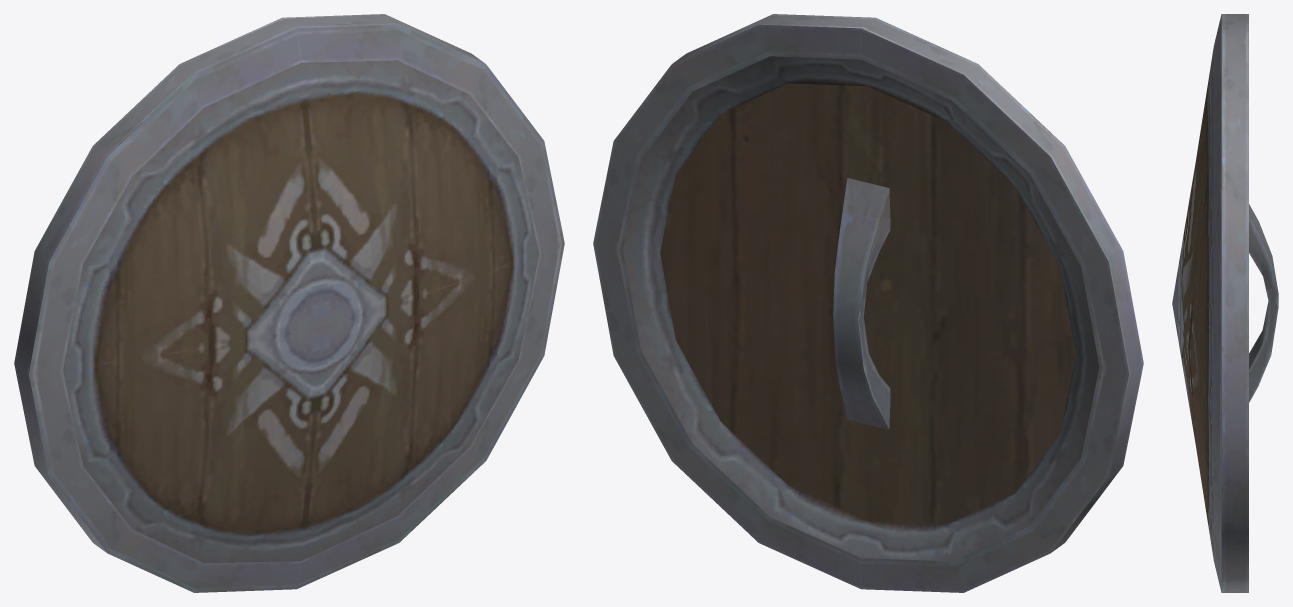
File: Homeworld_Interior_Xm_Walldecoration_Prop_Bookcase_01_Lod0.fbx
The picture shows the model from 3 angles, left to right: view 1: azimuth 30°, elevation 25°; view 2: azimuth 150°, elevation 25°; view 3: azimuth 270°, elevation 25°; orthographic projection. The views are drawn at different scales.
Visible parts, largest first — view 1: Area_Xm_Prop_Common_Ybtdunpai_01_Lod0; view 2: Area_Xm_Prop_Common_Ybtdunpai_01_Lod0; view 3: Area_Xm_Prop_Common_Ybtdunpai_01_Lod0.
Part boxes in pixels (x1,y1,x2,y2): Area_Xm_Prop_Common_Ybtdunpai_01_Lod0: (14, 14, 564, 592); Area_Xm_Prop_Common_Ybtdunpai_01_Lod0: (593, 14, 1143, 592); Area_Xm_Prop_Common_Ybtdunpai_01_Lod0: (1172, 14, 1278, 592).
Bounding box in the file's own units: 1 × 1 × 0.184.
